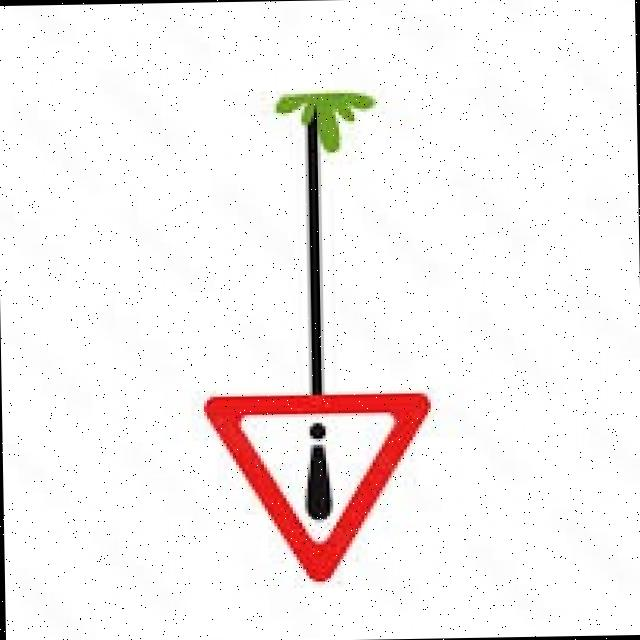warning: (188, 386, 450, 597)
